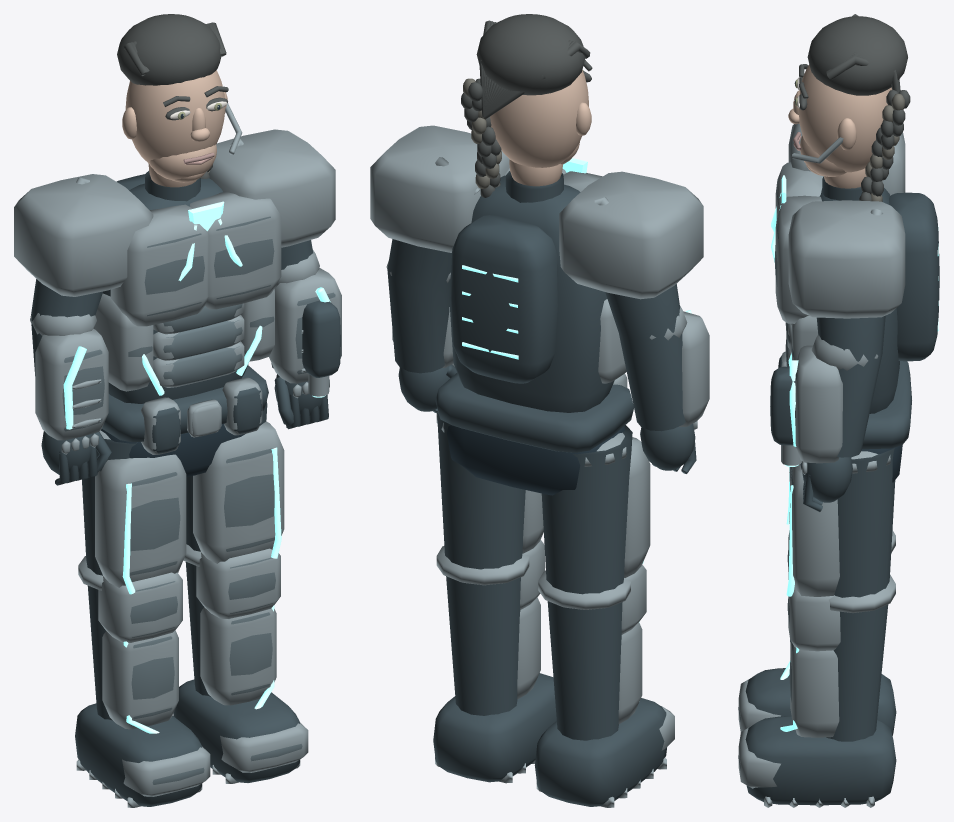
The model's file is malia.glb.
The picture shows the model from 3 angles, left to right: view 1: azimuth 30°, elevation 25°; view 2: azimuth 150°, elevation 25°; view 3: azimuth 270°, elevation 25°; orthographic projection. The views are drawn at different scales.
Visible parts, largest first — view 1: Shoulder leftArm bevel, Shoulder rightArm bevel, Thigh leftLeg bevel, Thigh rightLeg bevel, Pectoral armour -1 bevel, Boot leftLeg, Pectoral armour 1 bevel, Swept hair crown, Boot rightLeg, Malia face, Forearm leftArm bevel, Shin rightLeg bevel (+45 smaller); view 2: Articulated leg leftLeg, Articulated leg rightLeg, Spinal power pack, Shoulder leftArm bevel, Sealed undersuit, Shoulder rightArm bevel, Boot leftLeg, Boot rightLeg, Utility belt, Sleeve leftArm, Sleeve rightArm, Swept hair crown (+16 smaller); view 3: Shoulder rightArm bevel, Articulated leg rightLeg, Boot rightLeg, Spinal power pack, Swept hair crown, Malia face, Sleeve rightArm, Forearm rightArm bevel, Thigh rightLeg bevel, Shin rightLeg bevel, Knee rightLeg bevel, Boot leftLeg (+21 smaller).
Boxes of the visible parts, x1,y1,x2,y2 form: Shoulder leftArm bevel: [14, 174, 153, 296]; Shoulder rightArm bevel: [208, 129, 335, 247]; Thigh leftLeg bevel: [95, 454, 186, 587]; Thigh rightLeg bevel: [193, 421, 284, 563]; Pectoral armour -1 bevel: [110, 204, 208, 326]; Boot leftLeg: [75, 703, 202, 806]; Pectoral armour 1 bevel: [189, 191, 281, 309]; Swept hair crown: [117, 14, 221, 85]; Boot rightLeg: [173, 679, 300, 782]; Malia face: [125, 70, 225, 163]; Forearm leftArm bevel: [35, 328, 108, 440]; Shin rightLeg bevel: [200, 607, 276, 705]; Articulated leg leftLeg: [541, 425, 632, 740]; Articulated leg rightLeg: [437, 410, 525, 715]; Spinal power pack: [450, 215, 557, 383]; Shoulder leftArm bevel: [559, 171, 703, 299]; Sealed undersuit: [449, 175, 614, 412]; Shoulder rightArm bevel: [370, 125, 509, 252]; Boot leftLeg: [534, 698, 666, 806]; Boot rightLeg: [433, 673, 556, 782]; Utility belt: [435, 373, 633, 452]; Sleeve leftArm: [605, 284, 685, 431]; Sleeve rightArm: [387, 239, 451, 373]; Swept hair crown: [476, 14, 585, 95]; Shoulder rightArm bevel: [788, 200, 905, 318]; Articulated leg rightLeg: [826, 447, 895, 741]; Boot rightLeg: [745, 716, 896, 805]; Spinal power pack: [889, 192, 939, 361]; Swept hair crown: [807, 16, 907, 95]; Malia face: [798, 64, 892, 172]; Sleeve rightArm: [816, 315, 885, 457]; Forearm rightArm bevel: [795, 345, 842, 463]; Thigh rightLeg bevel: [790, 464, 839, 596]; Shin rightLeg bevel: [790, 642, 839, 737]; Knee rightLeg bevel: [788, 585, 840, 651]; Boot leftLeg: [745, 668, 896, 735].
Bounding box in the file's own units: 1.73 × 4.18 × 1.02.
